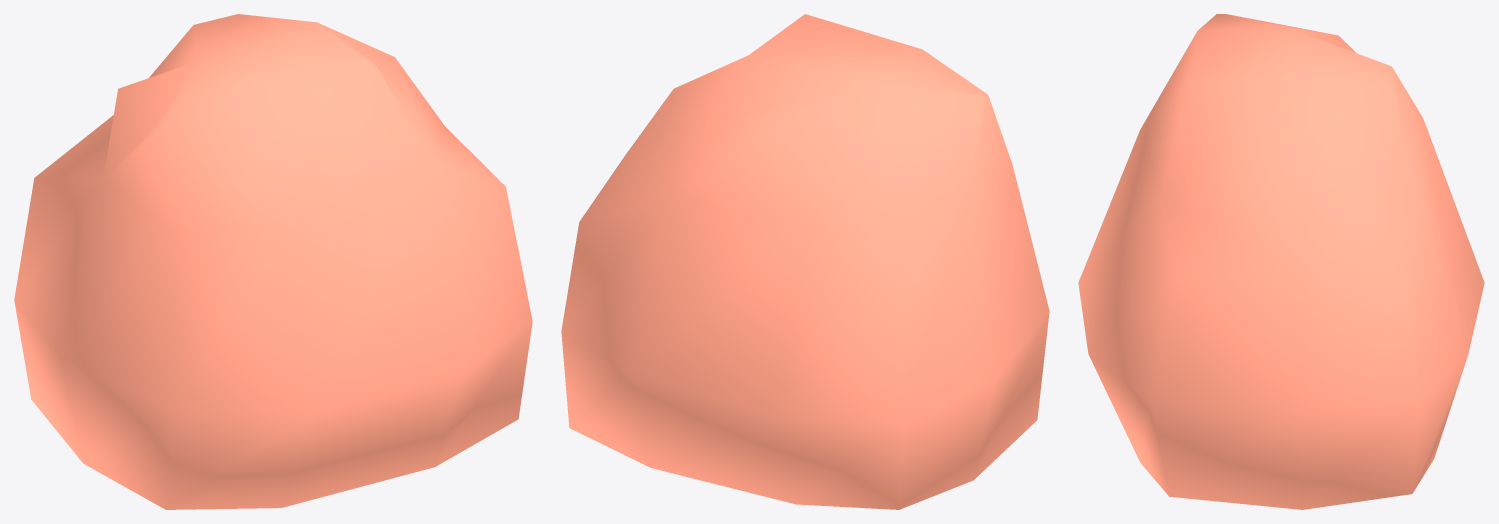
The model's file is StoneC.fbx.
3 renders of one model, left to right at view 1: azimuth 30°, elevation 25°; view 2: azimuth 150°, elevation 25°; view 3: azimuth 270°, elevation 25°, orthographic. The views are drawn at different scales.
Visible parts, largest first — view 1: Volume_Mesher; view 2: Volume_Mesher; view 3: Volume_Mesher.
Boxes of the visible parts, x1,y1,x2,y2 form: Volume_Mesher: (14,14,532,509); Volume_Mesher: (561,14,1049,509); Volume_Mesher: (1078,14,1484,509).
Size of the model in its own units: 650 by 629 by 589.
